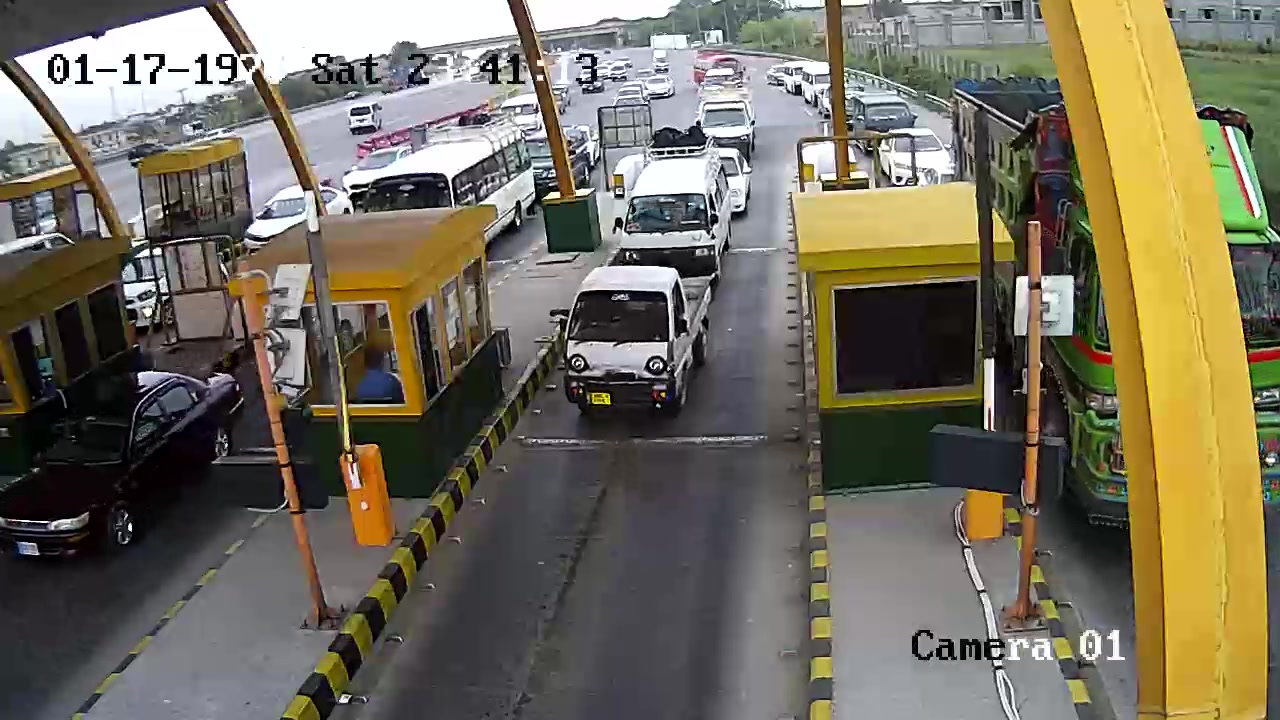F1: (547, 256, 733, 434)
